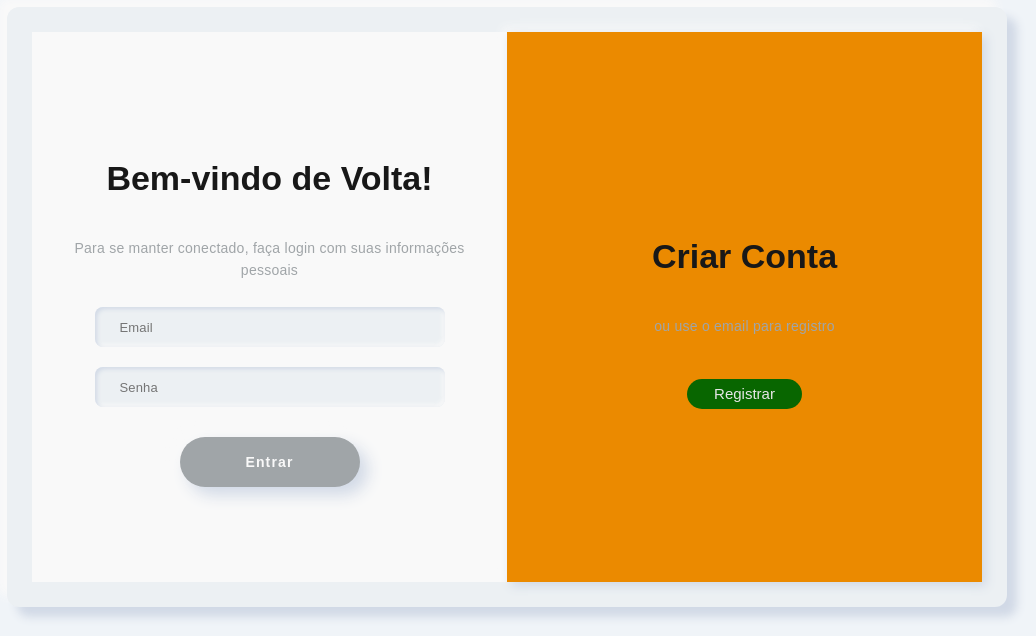
Login component › Mostra erro ao falhar conexão com servidor
Type "usuario@teste.com" into the field with placeholder "Email". click: (270, 327)
box: [94,307,444,347]
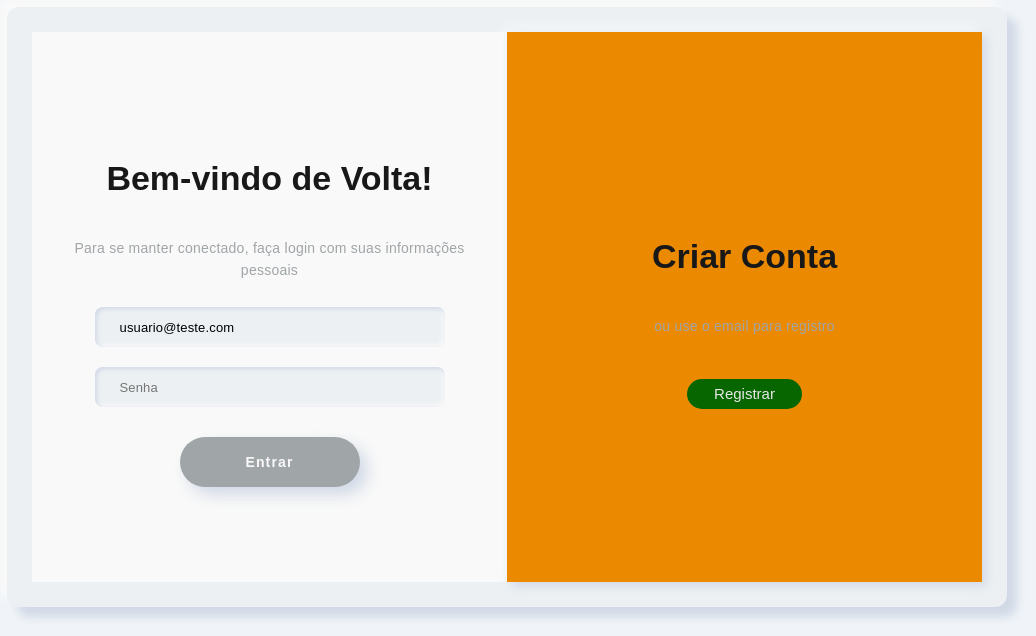
Type "senha123" into the password field with placeholder "Senha". click: (270, 387)
box: [94,367,444,407]
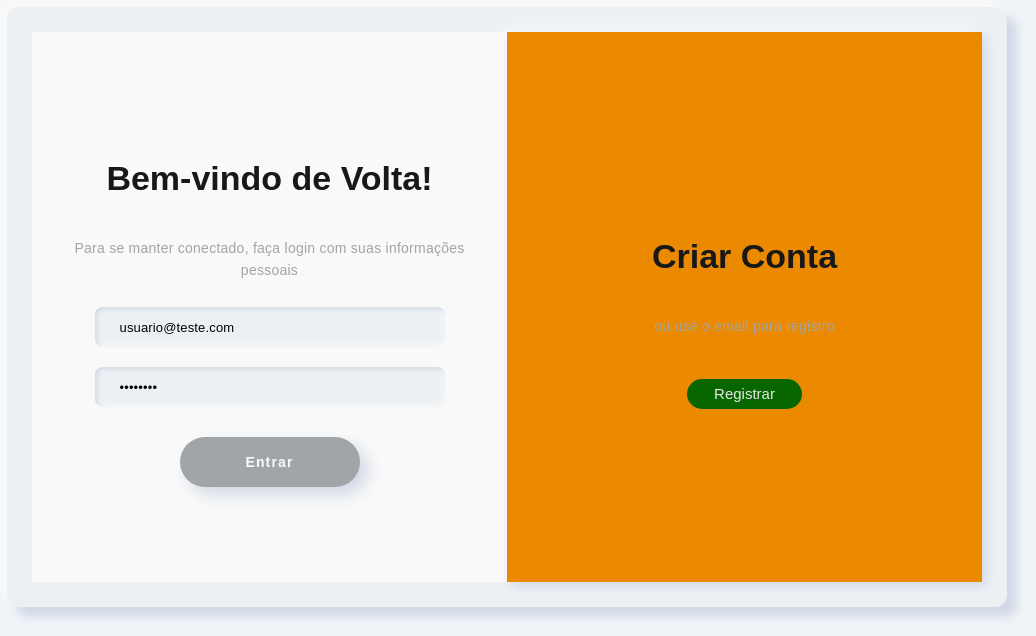
Click the button "Entrar". click: (270, 462)
box: [180,437,360,487]
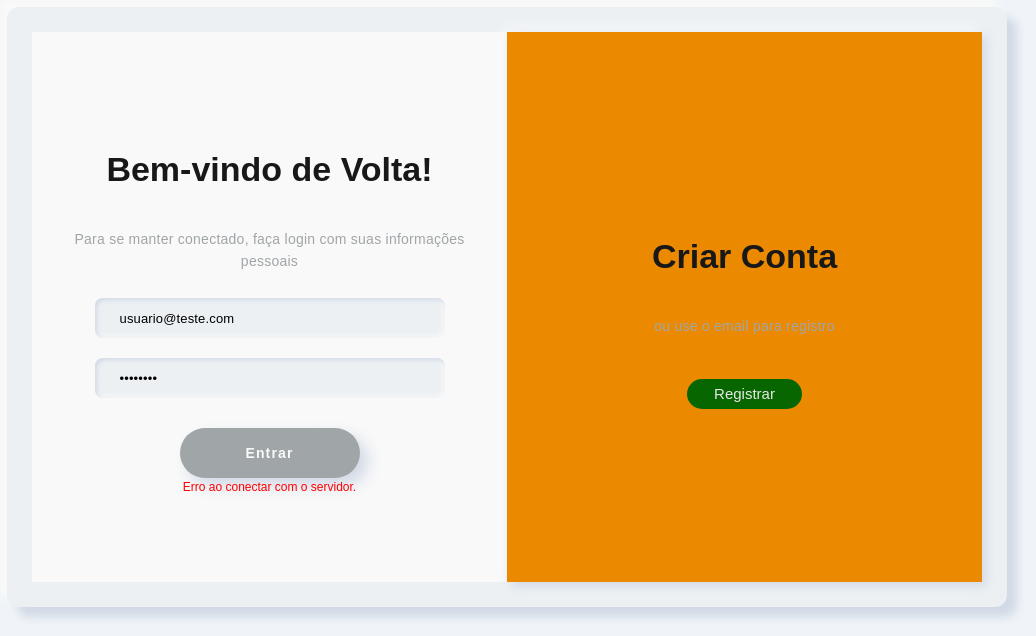
expect the text "Erro ao conectar com o servidor." is shown: met, box [183,478,356,496]
